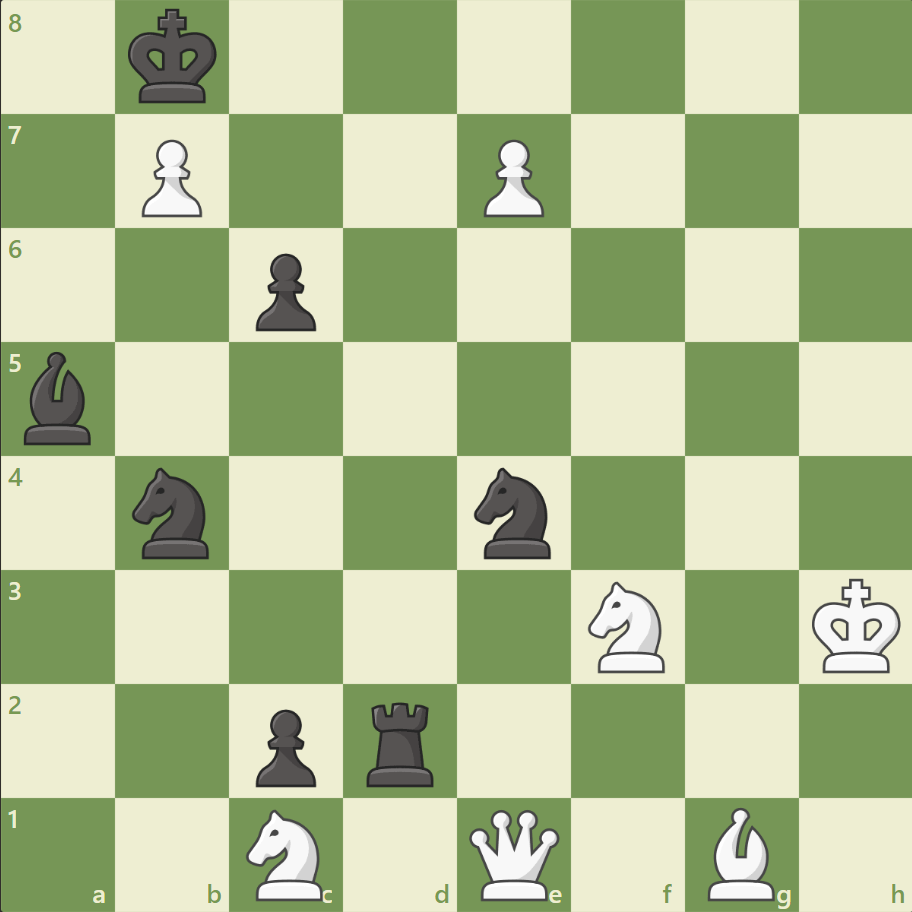B: (698, 801, 782, 904)
K: (806, 571, 906, 679)
N: (579, 575, 676, 677), (238, 802, 335, 904)
P: (133, 132, 208, 223), (474, 132, 549, 223)
Q: (464, 804, 563, 903)
b: (17, 347, 101, 449)
k: (124, 4, 224, 112)
n: (124, 461, 222, 564), (465, 461, 562, 564)
p: (247, 246, 322, 337), (247, 700, 322, 791)
r: (360, 693, 442, 790)
